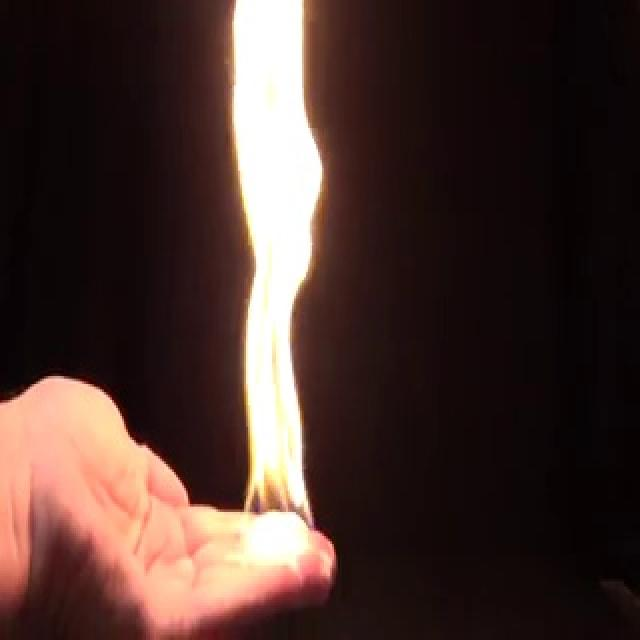fire: (212, 0, 334, 563)
